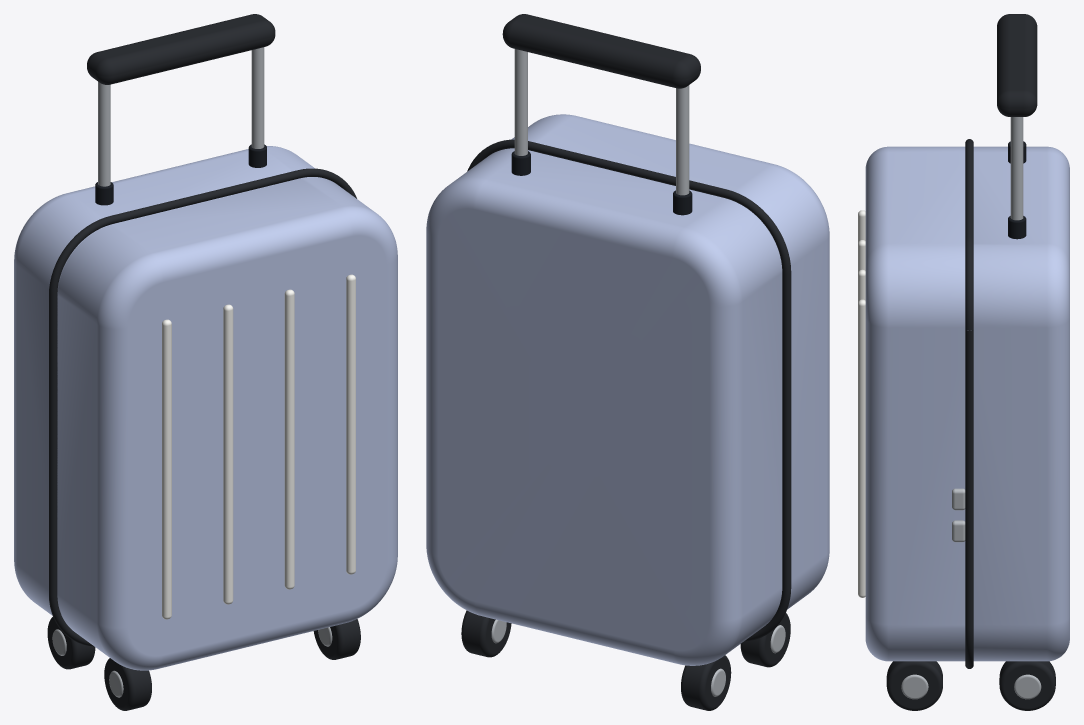
The model's file is cabin-suitcase.glb.
3 renders of one model, left to right at view 1: azimuth 30°, elevation 25°; view 2: azimuth 150°, elevation 25°; view 3: azimuth 270°, elevation 25°, orthographic. The views are drawn at different scales.
Visible parts, largest first — view 1: hollow-rounded-housing (×2), telescoping-handle-014, zipper-welt-007, front-suitcase-shell-005, front-suitcase-shell-004, front-suitcase-shell-006, front-suitcase-shell-003, spinner-wheels-017, telescoping-handle-012, telescoping-handle-010, spinner-wheels-021, spinner-wheels-015; view 2: hollow-rounded-housing (×2), telescoping-handle-014, zipper-welt-007, spinner-wheels-015, telescoping-handle-010, telescoping-handle-012, spinner-wheels-019, spinner-wheels-017; view 3: hollow-rounded-housing (×2), zipper-welt-007, telescoping-handle-014, front-suitcase-shell-006, spinner-wheels-021, spinner-wheels-019, telescoping-handle-012, spinner-wheels-022, spinner-wheels-020, telescoping-handle-013.
Part boxes in pixels (bbox=[...]): hollow-rounded-housing (×2): bbox=[14, 146, 397, 670]; telescoping-handle-014: bbox=[87, 14, 275, 84]; zipper-welt-007: bbox=[49, 168, 356, 646]; front-suitcase-shell-005: bbox=[284, 289, 294, 589]; front-suitcase-shell-004: bbox=[223, 304, 233, 604]; front-suitcase-shell-006: bbox=[346, 274, 355, 574]; front-suitcase-shell-003: bbox=[162, 319, 171, 619]; spinner-wheels-017: bbox=[104, 658, 151, 710]; telescoping-handle-012: bbox=[251, 47, 264, 148]; telescoping-handle-010: bbox=[98, 82, 110, 186]; spinner-wheels-021: bbox=[313, 619, 360, 659]; spinner-wheels-015: bbox=[47, 617, 95, 669]; hollow-rounded-housing (×2): bbox=[426, 114, 829, 665]; telescoping-handle-014: bbox=[502, 14, 700, 88]; zipper-welt-007: bbox=[467, 139, 791, 641]; spinner-wheels-015: bbox=[681, 655, 731, 710]; telescoping-handle-010: bbox=[676, 85, 689, 195]; telescoping-handle-012: bbox=[514, 49, 527, 155]; spinner-wheels-019: bbox=[461, 610, 511, 657]; spinner-wheels-017: bbox=[740, 613, 790, 667]; hollow-rounded-housing (×2): bbox=[865, 146, 1069, 661]; zipper-welt-007: bbox=[965, 139, 973, 668]; telescoping-handle-014: bbox=[997, 14, 1037, 116]; front-suitcase-shell-006: bbox=[858, 299, 865, 597]; spinner-wheels-021: bbox=[886, 661, 942, 710]; spinner-wheels-019: bbox=[999, 661, 1055, 710]; telescoping-handle-012: bbox=[1010, 117, 1023, 220]; spinner-wheels-022: bbox=[901, 674, 928, 699]; spinner-wheels-020: bbox=[1014, 674, 1041, 699]; telescoping-handle-013: bbox=[1008, 216, 1026, 239].
Size of the model in its own units: 1.07 by 2 by 0.6365.
